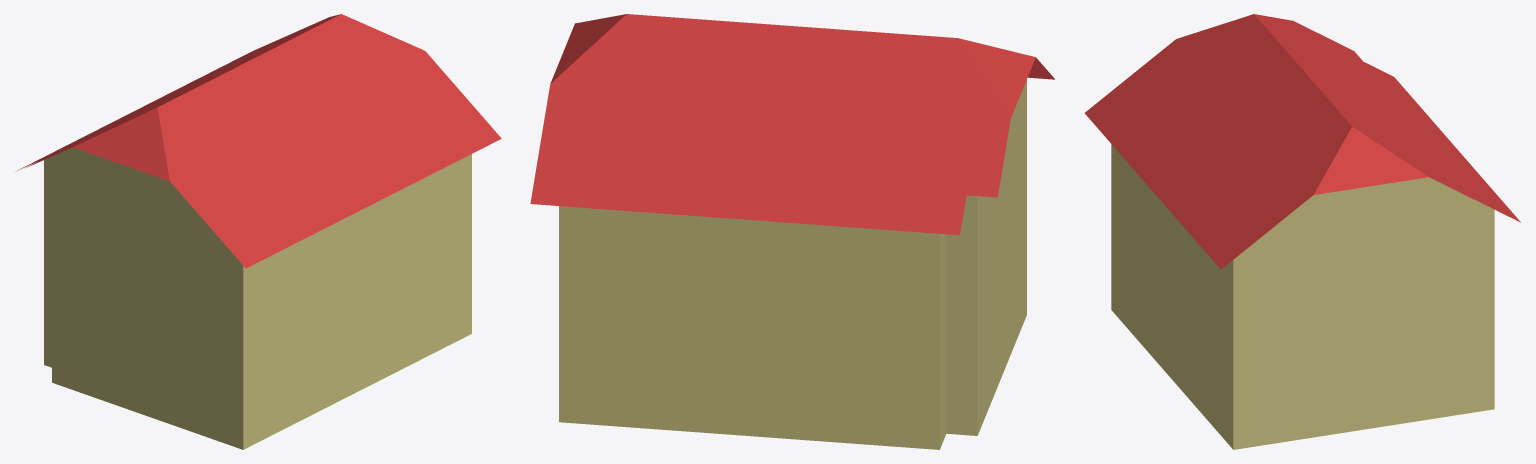
3 renders of one model, left to right at view 1: azimuth 30°, elevation 25°; view 2: azimuth 150°, elevation 25°; view 3: azimuth 270°, elevation 25°, orthographic. The views are drawn at different scales.
Bounding box in the file's own units: 16.86 × 15.68 × 11.45.
